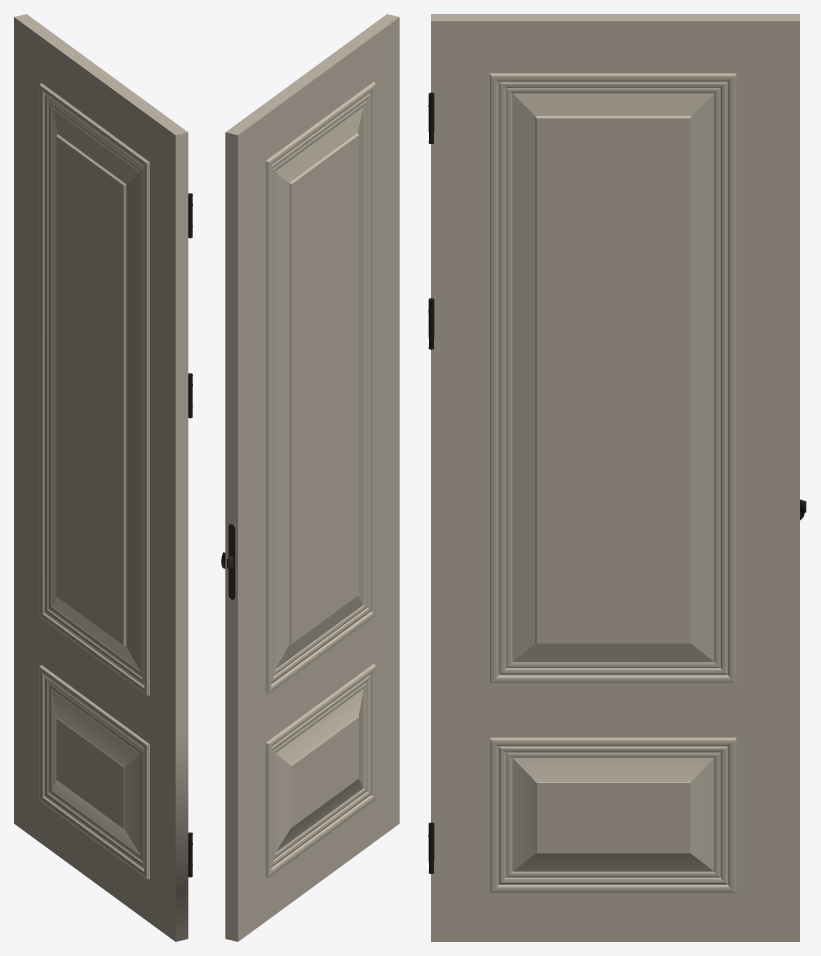
Rendered from 6_VENICE_Door.glb.
The picture shows the model from 3 angles, left to right: view 1: azimuth 30°, elevation 25°; view 2: azimuth 150°, elevation 25°; view 3: azimuth 270°, elevation 25°; orthographic projection. The views are drawn at different scales.
Parts seen in each view (by area): view 1: 6_VENICE_Door; view 2: 6_VENICE_Door; view 3: 6_VENICE_Door.
Part boxes in pixels (x1=…): 6_VENICE_Door: x1=14, y1=14, x2=192, y2=941; 6_VENICE_Door: x1=221, y1=14, x2=399, y2=941; 6_VENICE_Door: x1=428, y1=14, x2=806, y2=941.
Size of the model in its own units: 0.0687 by 2.2 by 0.8197.
